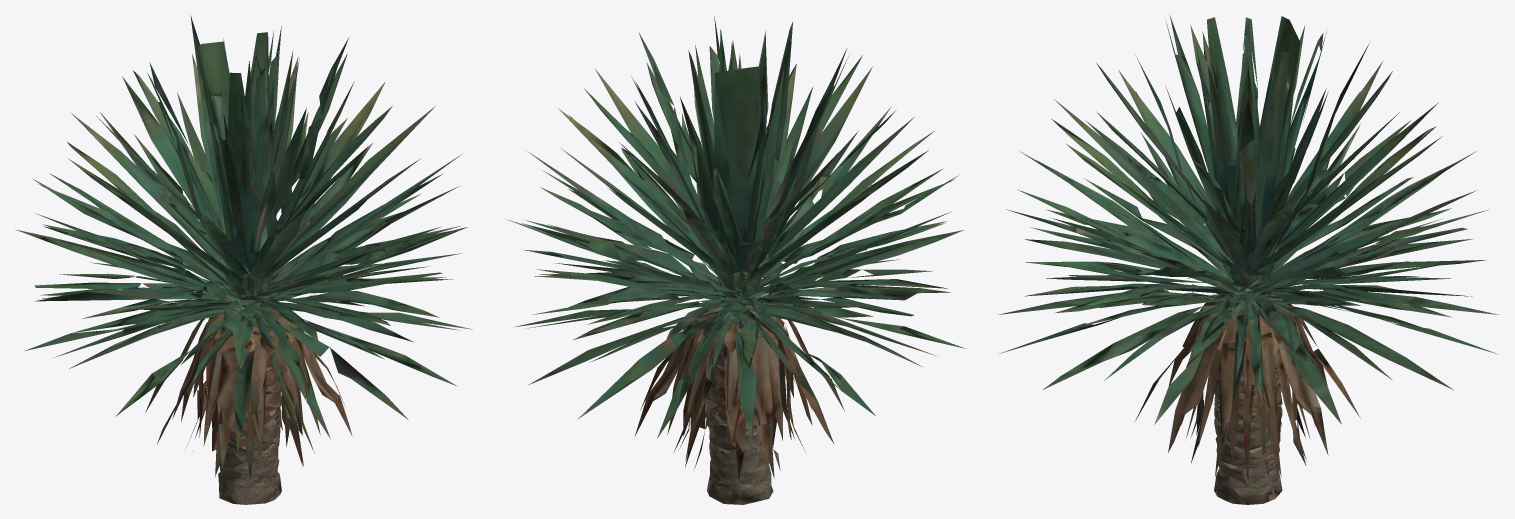
File: yucca.glb
3 renders of one model, left to right at view 1: azimuth 30°, elevation 25°; view 2: azimuth 150°, elevation 25°; view 3: azimuth 270°, elevation 25°, orthographic. The views are drawn at different scales.
Parts seen in each view (by area): view 1: Mesh_0; view 2: Mesh_0; view 3: Mesh_0.
Boxes of the visible parts, x1,y1,x2,y2 form: Mesh_0: (15,15,472,504); Mesh_0: (506,16,965,504); Mesh_0: (998,16,1498,504).
Size of the model in its own units: 1.76 by 1.9 by 1.9.
Materials: 1 (1 with a texture image).
